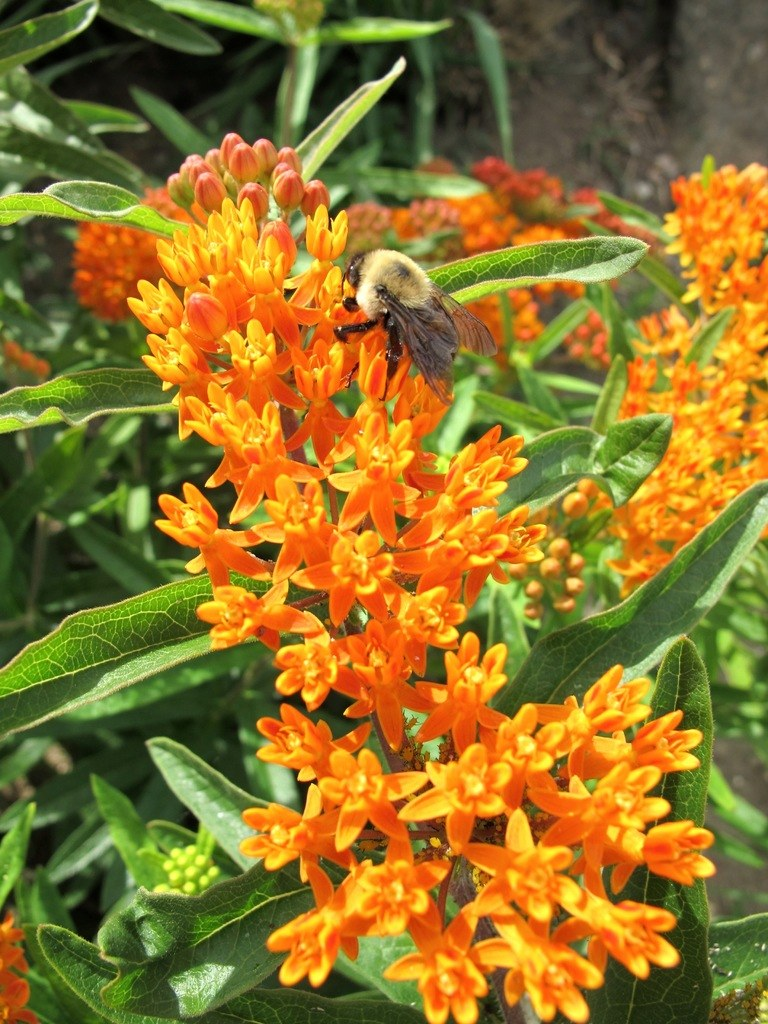bee: (335, 236, 504, 394)
insect: (126, 193, 716, 1023), (616, 162, 767, 596), (388, 160, 656, 358), (68, 192, 196, 321), (471, 807, 579, 929), (412, 633, 509, 751), (0, 918, 40, 1023)
